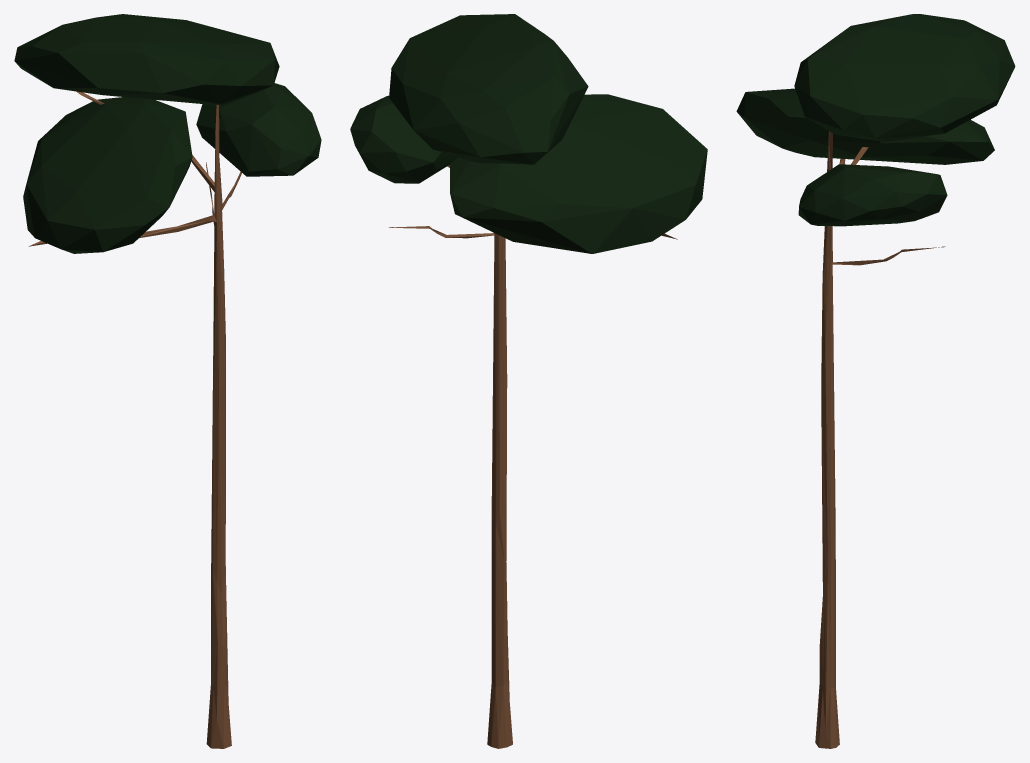
The model's file is SM_tree_birch_03.fbx.
3 views of the same model, side by side, from view 1: azimuth 30°, elevation 25°; view 2: azimuth 150°, elevation 25°; view 3: azimuth 270°, elevation 25° (orthographic). The views are drawn at different scales.
Visible parts, largest first — view 1: Object085; view 2: Object085; view 3: Object085.
Part boxes in pixels (box(x1,y1,x2,y2)): Object085: box(14, 14, 321, 748); Object085: box(350, 14, 707, 748); Object085: box(736, 14, 1015, 748).
Size of the model in its own units: 109 by 91.58 by 250.
